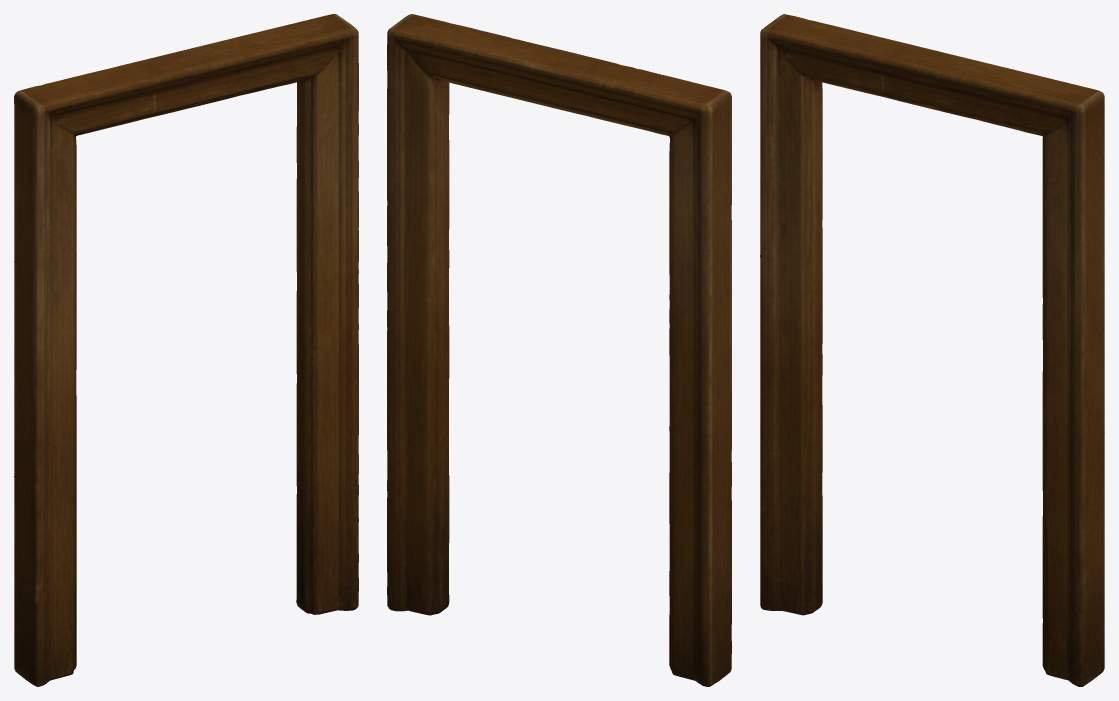
3 renders of one model, left to right at view 1: azimuth 30°, elevation 25°; view 2: azimuth 150°, elevation 25°; view 3: azimuth 330°, elevation 25°, orthographic.
Parts seen in each view (by area): view 1: world; view 2: world; view 3: world.
Part boxes in pixels (x1,y1,x2,y2): world: [14, 14, 358, 686]; world: [387, 14, 731, 686]; world: [760, 14, 1104, 686].
Bounding box in the file's own units: 2.1 × 3.6 × 0.2667.
1 material, 1 textured.
